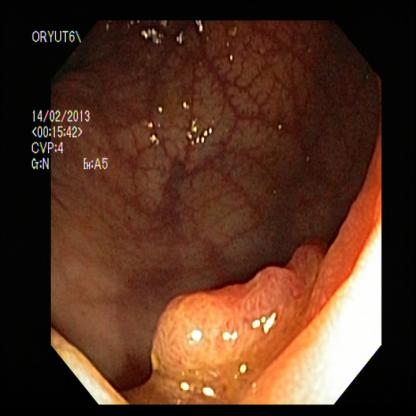Labels: (28, 25, 116, 184)
Polyps: (146, 250, 328, 370)
